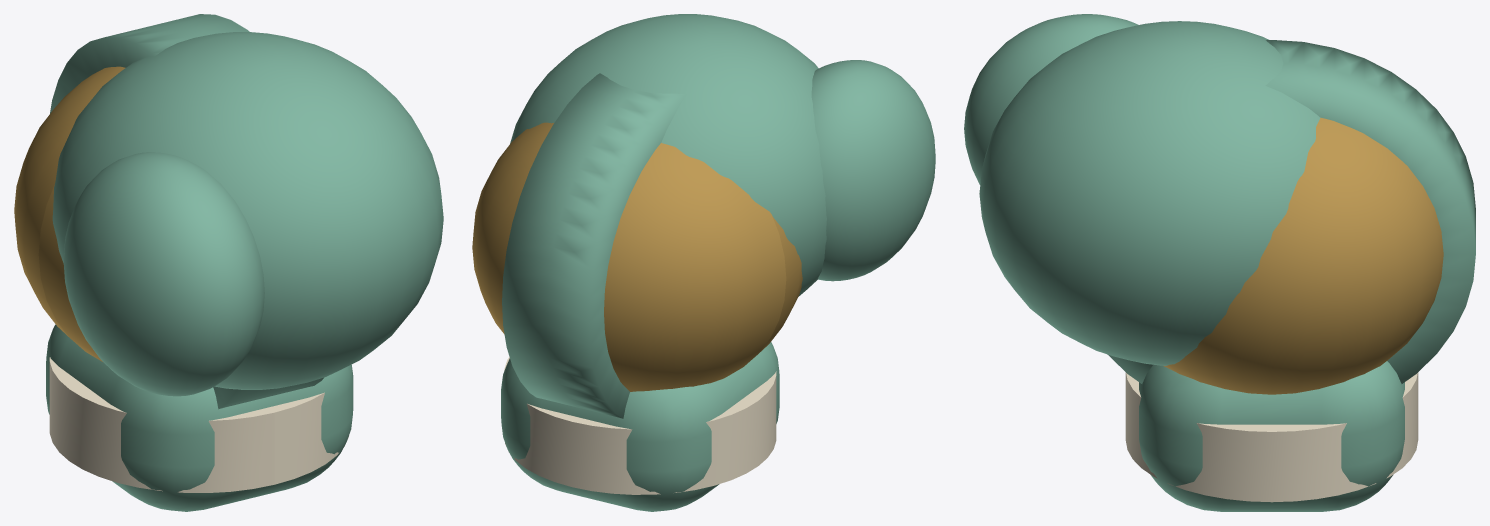
File: hotshot-arm-0.glb
3 views of the same model, side by side, from view 1: azimuth 30°, elevation 25°; view 2: azimuth 150°, elevation 25°; view 3: azimuth 270°, elevation 25° (orthographic). The views are drawn at different scales.
Parts seen in each view (by area): view 1: hand_clay, upper_clay, lower_hardware, upper_hardware; view 2: hand_clay, upper_clay, upper_hardware, lower_hardware; view 3: hand_clay, upper_hardware, upper_clay, lower_hardware.
Boxes of the visible parts, x1,y1,x2,y2 form: hand_clay: [52, 32, 443, 396]; upper_clay: [46, 14, 353, 511]; lower_hardware: [49, 357, 349, 492]; upper_hardware: [14, 66, 125, 361]; hand_clay: [510, 14, 935, 296]; upper_clay: [501, 73, 779, 511]; upper_hardware: [472, 122, 802, 391]; lower_hardware: [504, 357, 776, 494]; hand_clay: [964, 14, 1320, 365]; upper_hardware: [1163, 117, 1443, 394]; upper_clay: [1107, 40, 1475, 511]; lower_hardware: [1125, 372, 1418, 502].
Bounding box in the file's own units: 0.517 × 0.5973 × 0.6251.
